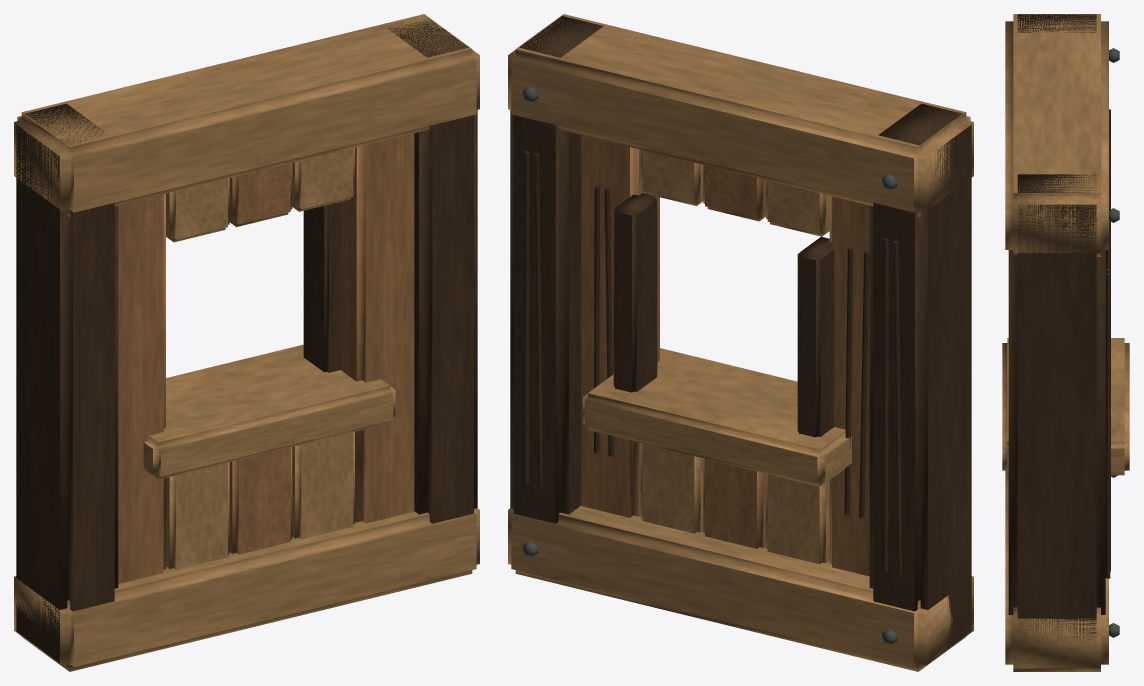
File: window-wall-3.fbx
3 renders of one model, left to right at view 1: azimuth 30°, elevation 25°; view 2: azimuth 150°, elevation 25°; view 3: azimuth 270°, elevation 25°, orthographic. The views are drawn at different scales.
Parts seen in each view (by area): view 1: window-wall-3__Geometry; view 2: window-wall-3__Geometry; view 3: window-wall-3__Geometry.
Boxes of the visible parts, x1=… form: window-wall-3__Geometry: x1=14, y1=14, x2=479, y2=671; window-wall-3__Geometry: x1=508, y1=14, x2=973, y2=671; window-wall-3__Geometry: x1=1002, y1=14, x2=1129, y2=671.
Size of the model in its own units: 1 by 1.2 by 0.29.
1 material, 1 textured.
